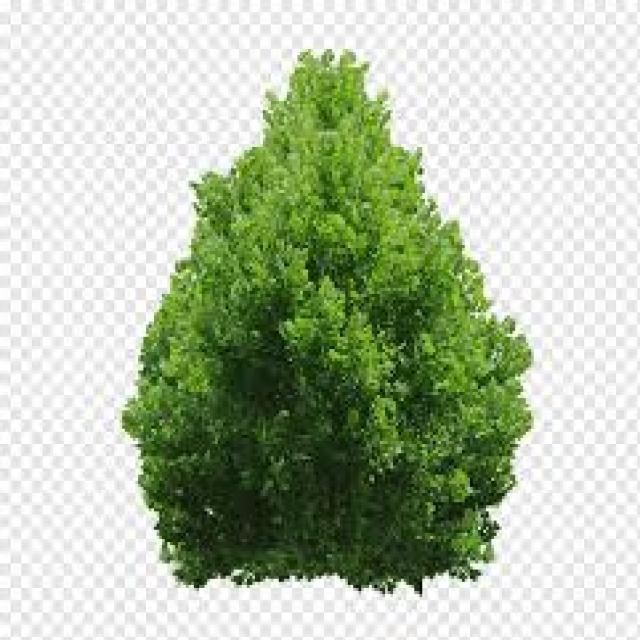tree: (119, 55, 532, 588)
